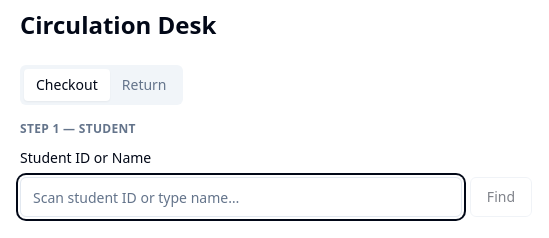
it: ReturnTab › shows barcode input on Return tab
Click the tab "Return".
click(144, 85)  # box [110,69,179,101]
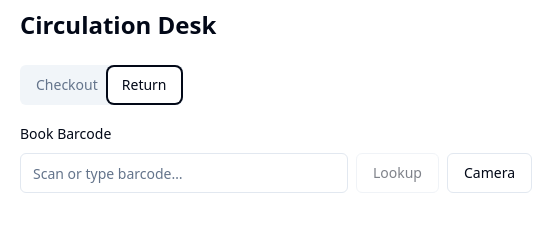
Expected: the field labelled "Book Barcode" is shown, [20,153,348,193]
